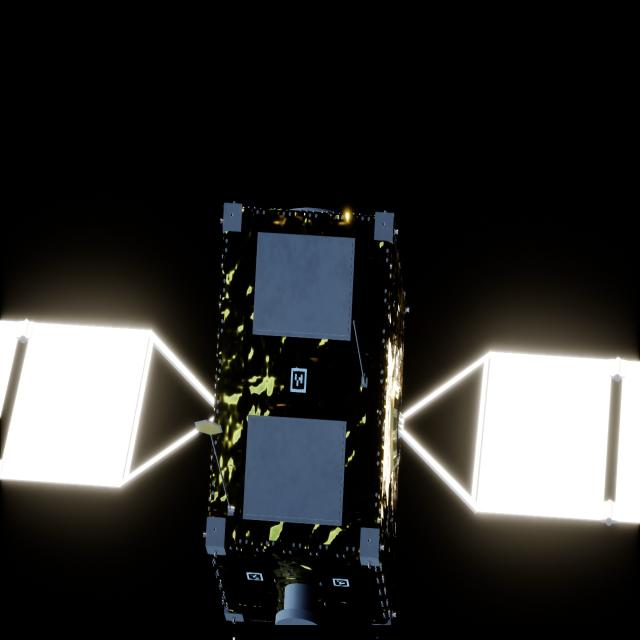medium_debris: (0, 202, 640, 640)
